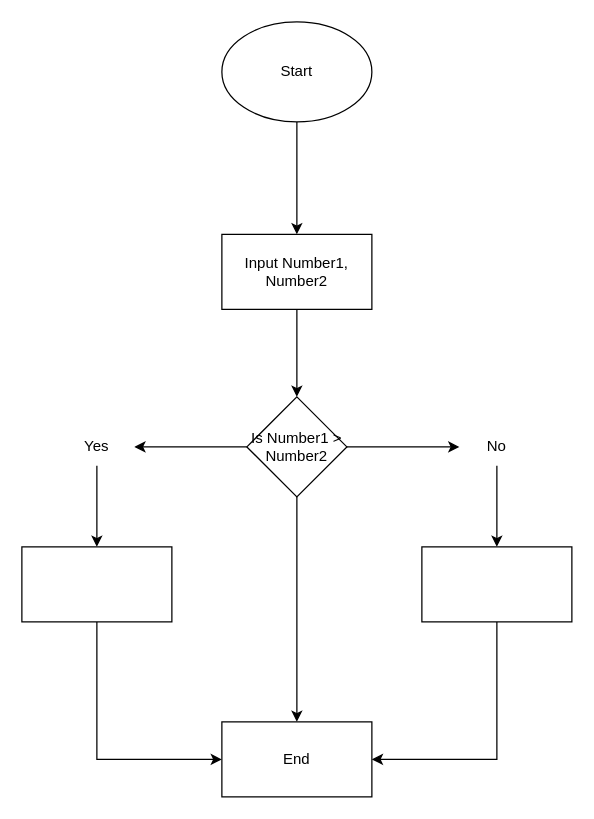
Some shapes in this 594 by 819 pixel diagram are drawn without their labels. Here are the shapes that lost their labels. From the top down, the centre of each, then its label:
(96,584): Print Number1 "Larger"
(496,584): Print Number2 "Larger"
